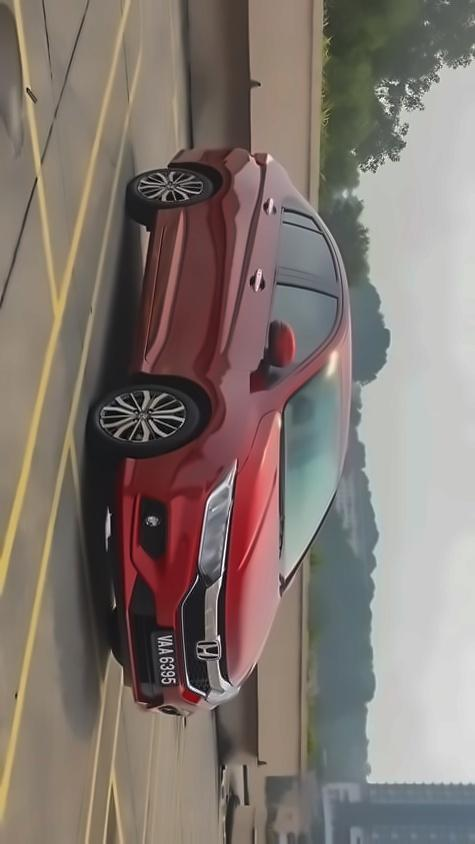Car hood: (214, 402, 292, 699)
Driver-s door - -F-R-: (123, 266, 364, 389)
Fender - -F-R-: (82, 362, 288, 487)
Fender - -R-R-: (127, 152, 336, 218)
Front bumper: (99, 443, 223, 732)
Headlight - -L-: (200, 679, 242, 709)
Headlight - -R-: (196, 464, 239, 589)
Passenger-s door - -R-R-: (126, 190, 363, 298)
Side bumper - -R-: (117, 202, 198, 374)
Side mirror - -R-: (253, 313, 299, 388)
